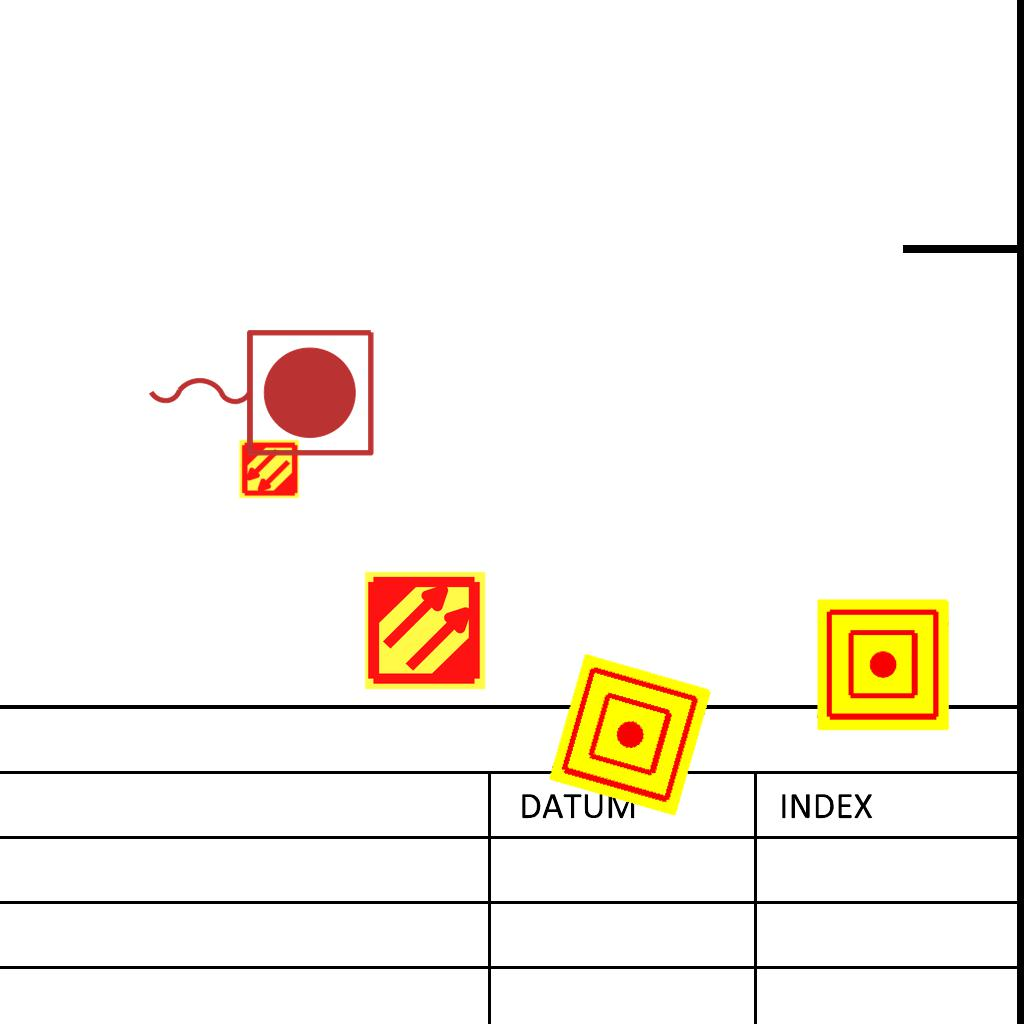ASR_Ansaugrauchmelder: (363, 568, 488, 693), (238, 438, 300, 500)
NAM-Nichtautomatischer_Melder: (548, 653, 712, 817), (817, 599, 949, 731)
Zugtaster: (138, 319, 382, 463)
